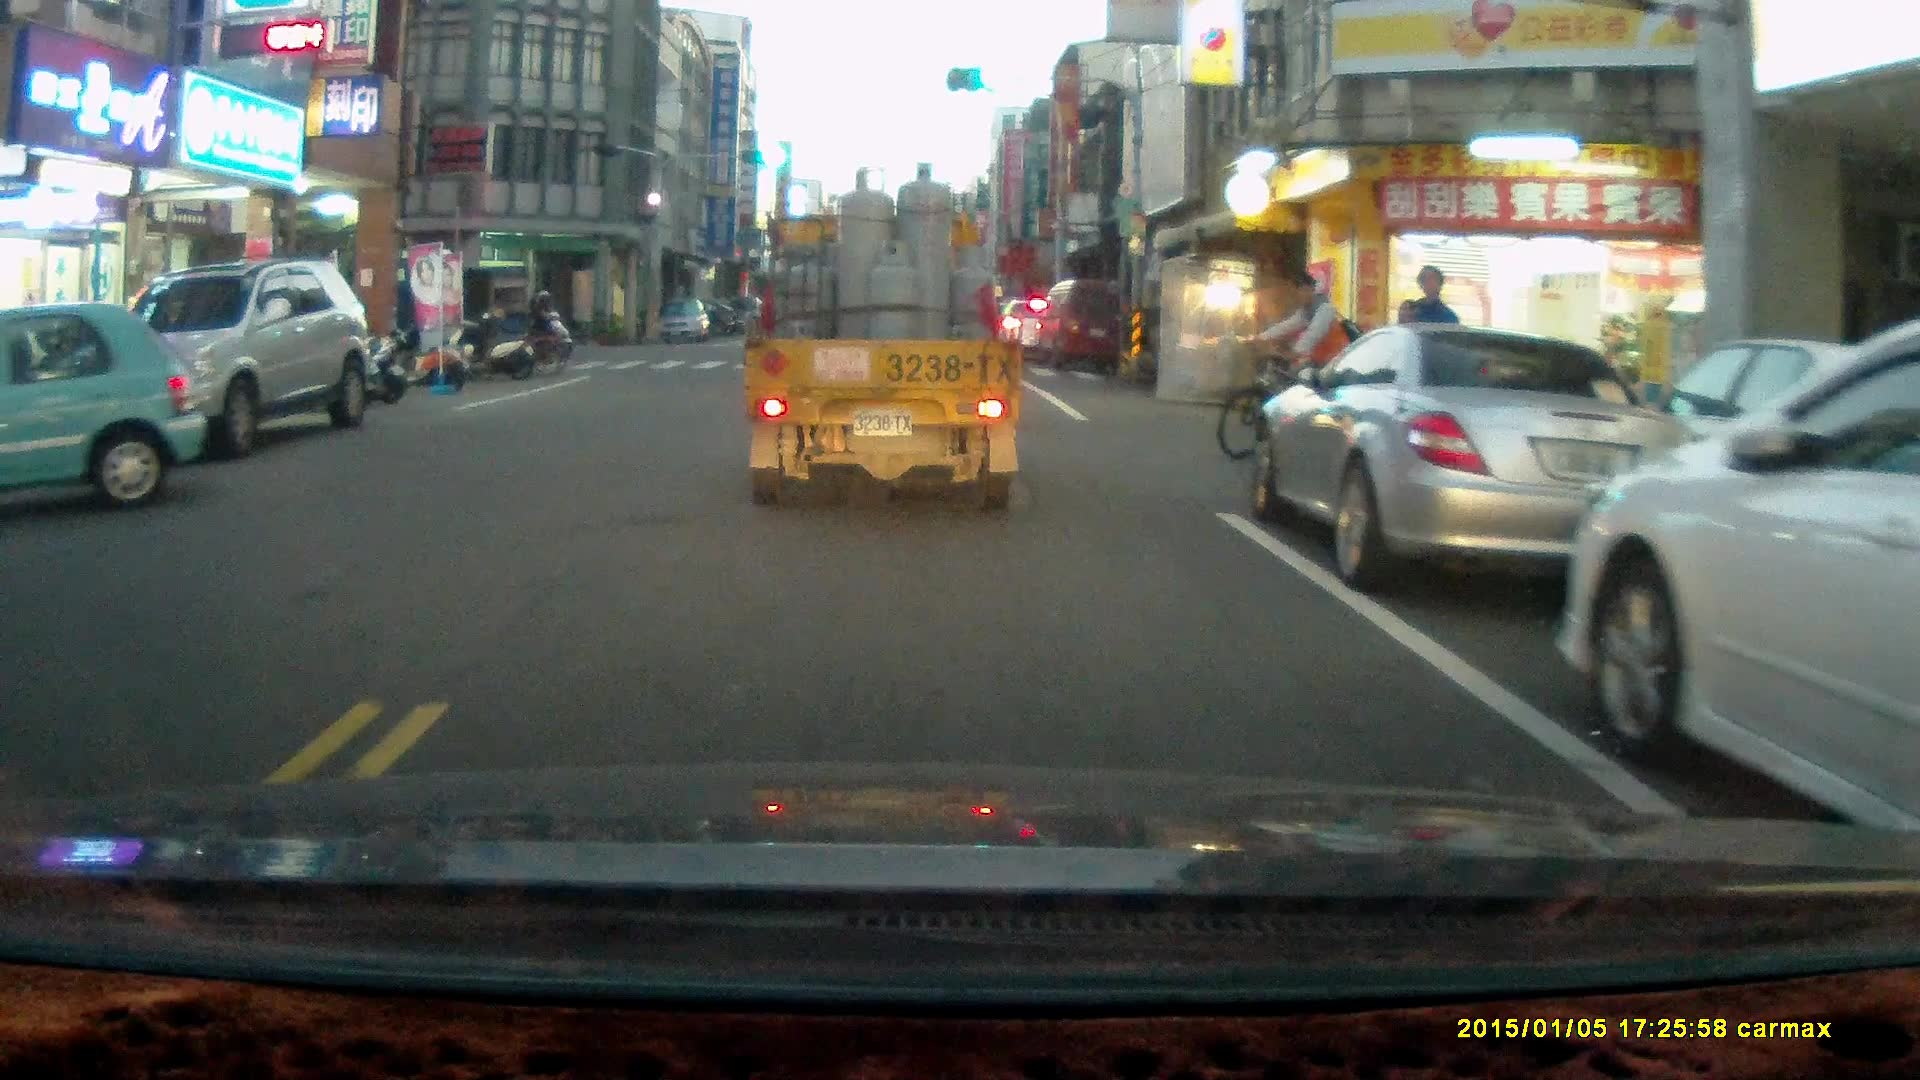rider: (1218, 270, 1384, 462), (513, 283, 577, 361)
vehicle: (1563, 324, 1920, 879), (1247, 326, 1706, 599), (743, 162, 1031, 515), (92, 257, 383, 453), (1, 300, 207, 516), (333, 261, 540, 365), (1039, 274, 1142, 372), (656, 297, 711, 346)
